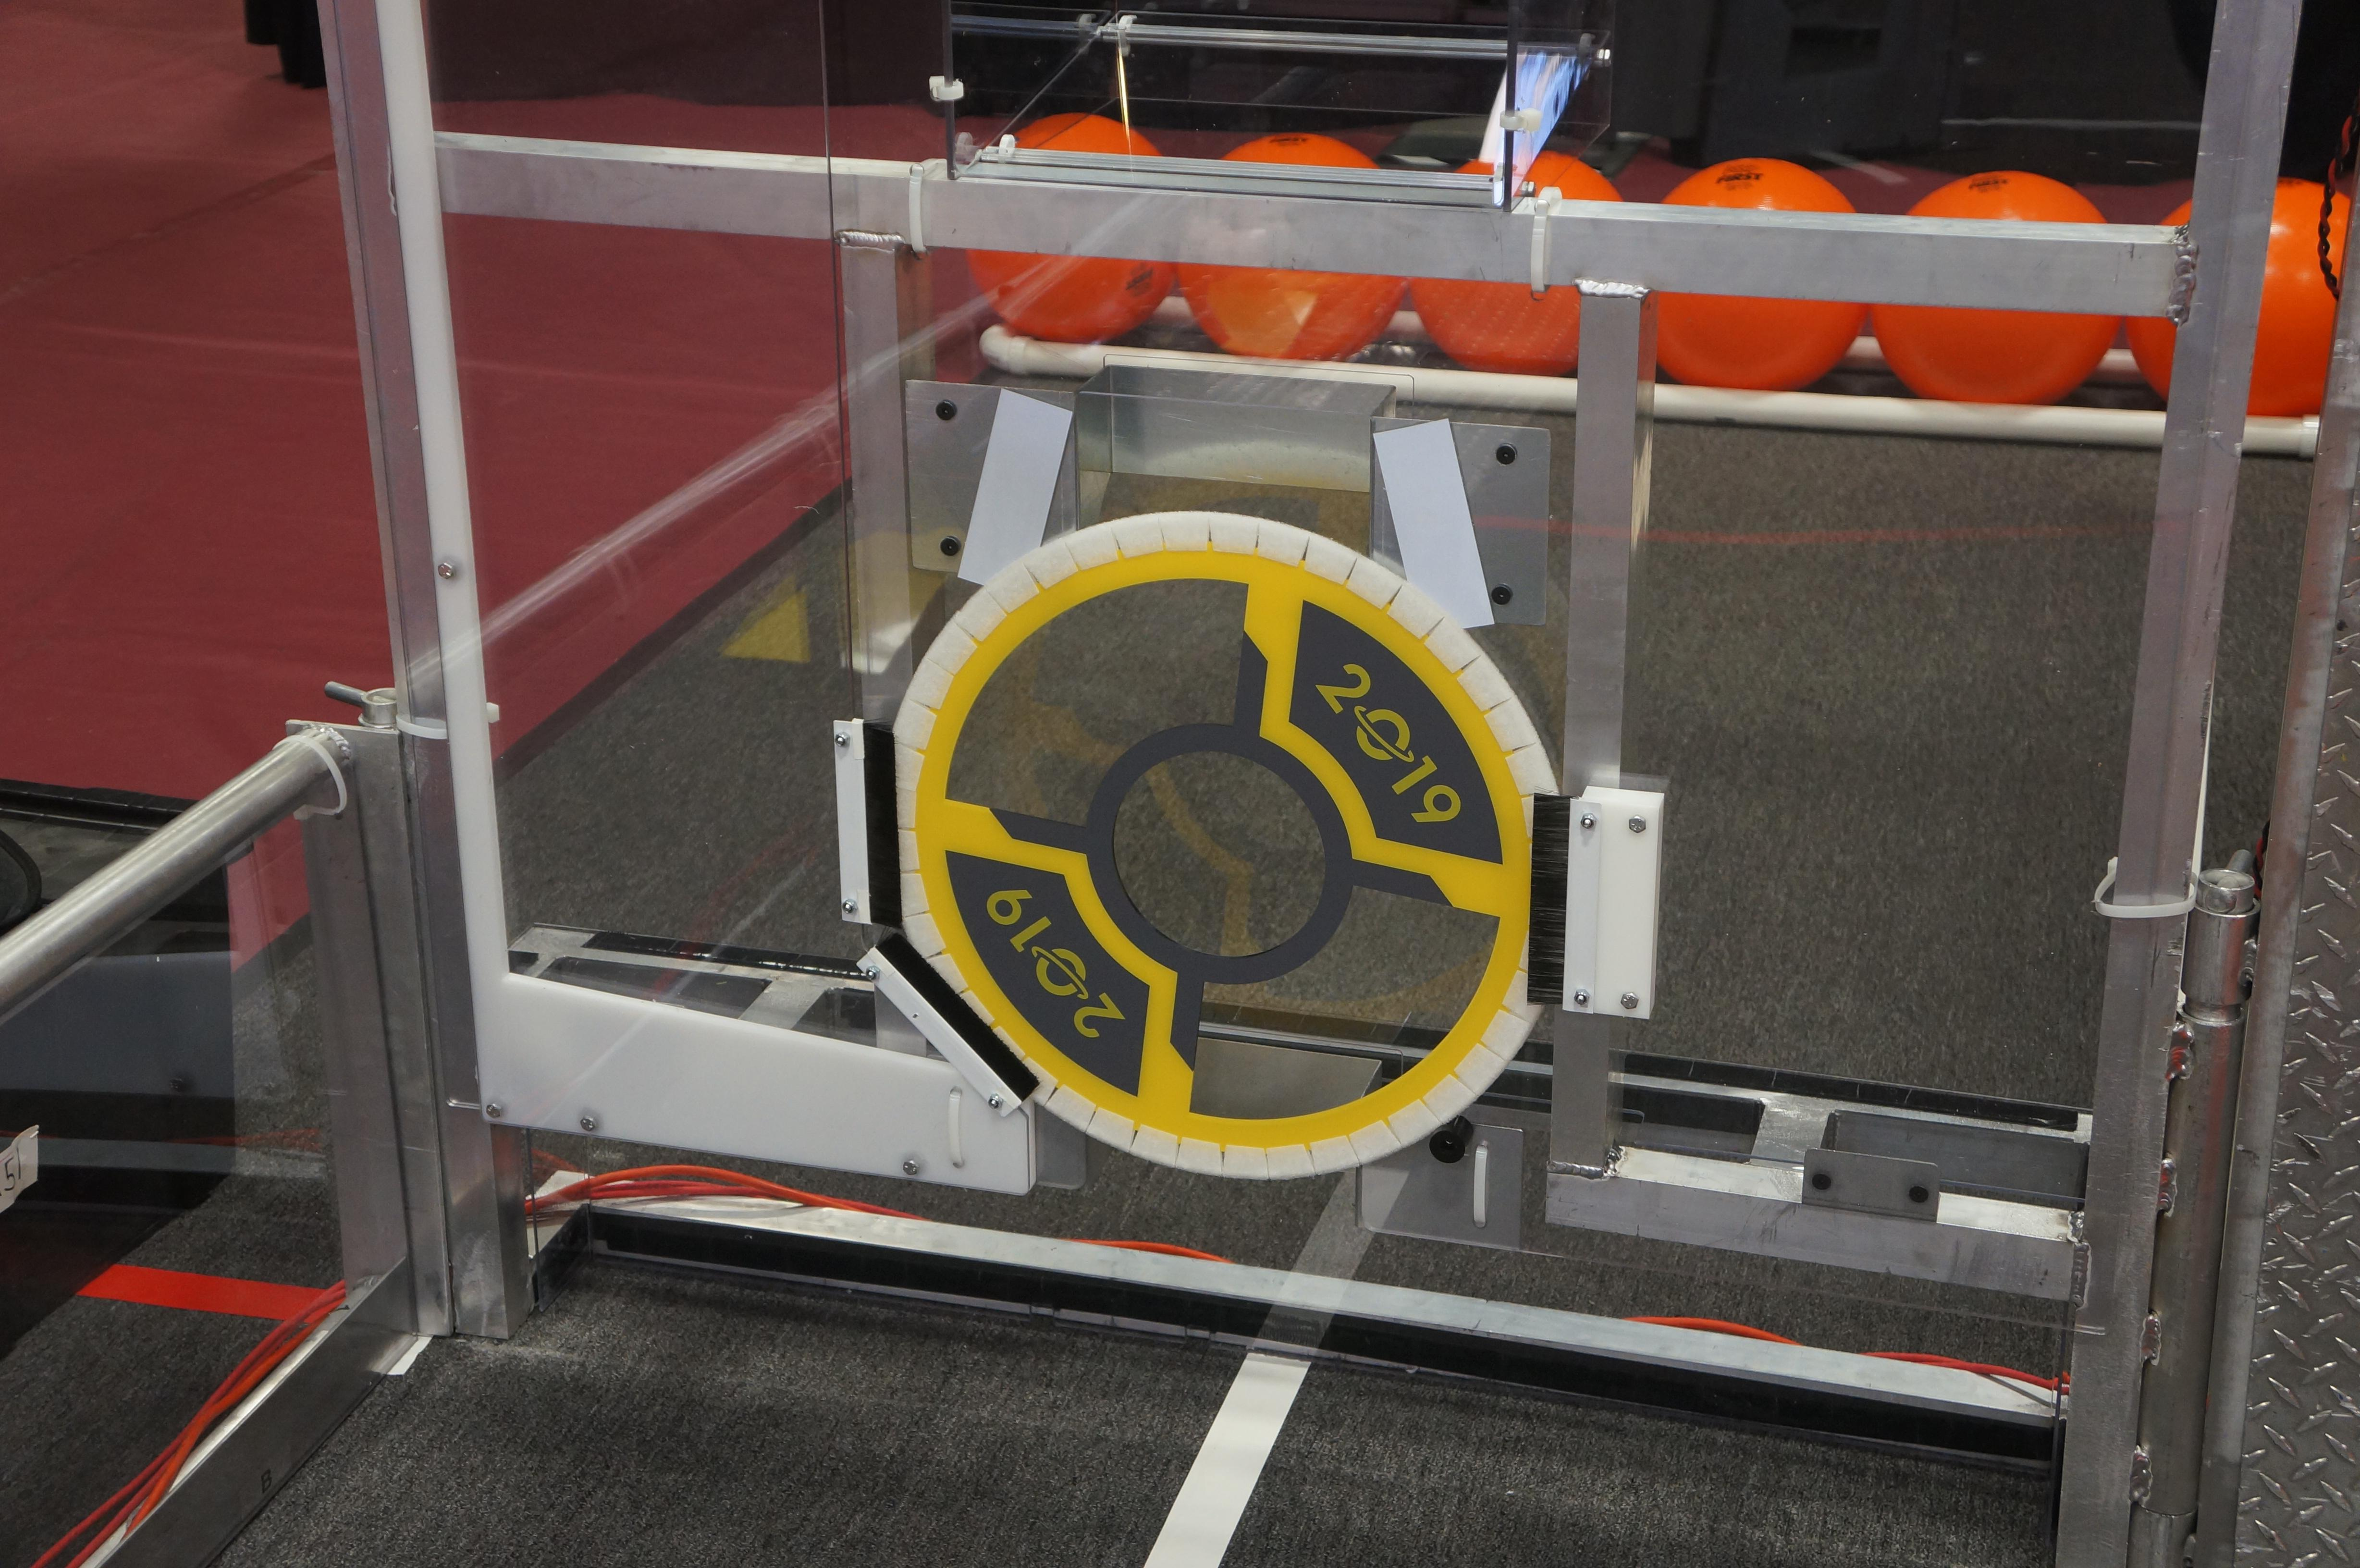Ball: (1881, 150, 2124, 409), (1641, 147, 1872, 392), (1183, 126, 1393, 364), (2141, 166, 2351, 404), (1417, 131, 1625, 371), (967, 105, 1179, 339)
Hatch: (882, 509, 1587, 1183)
Tape: (1363, 413, 1499, 633), (957, 390, 1078, 597)
